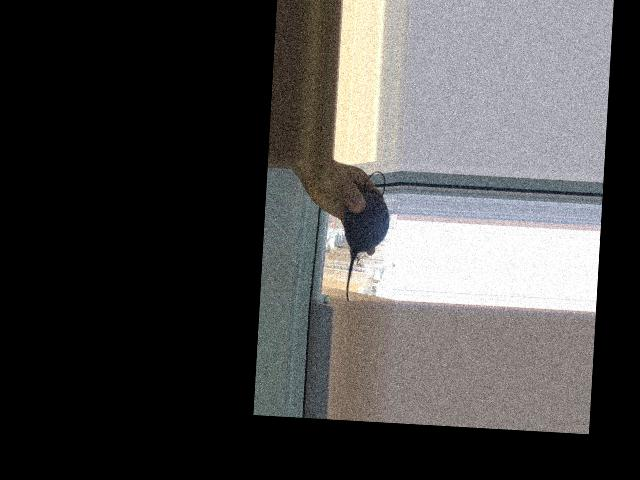beet: (339, 170, 392, 304)
